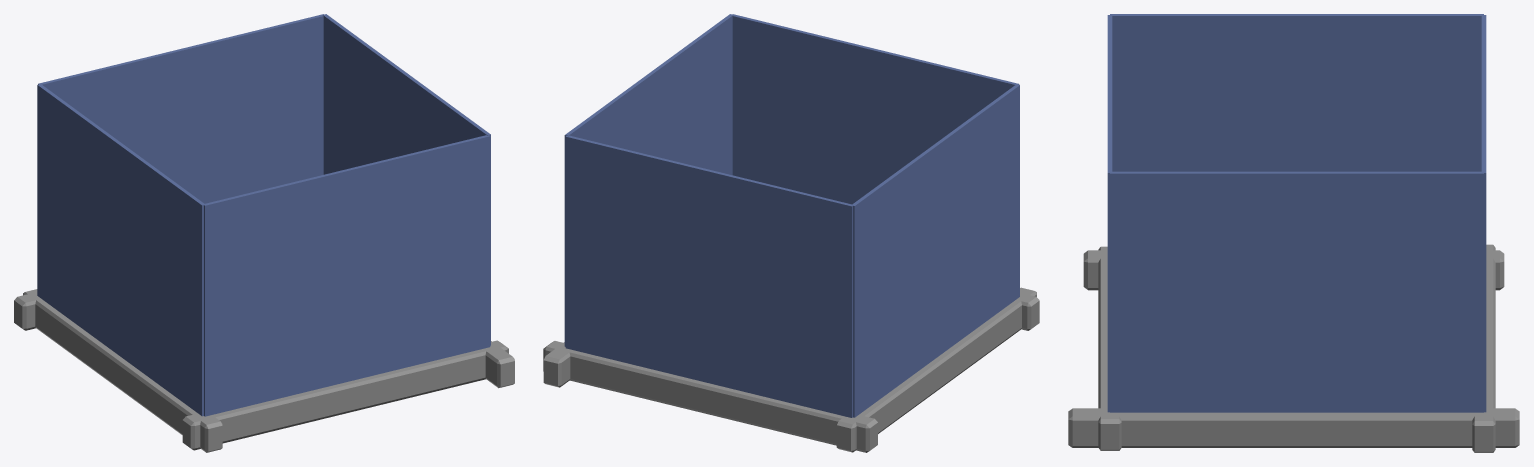
The model's file is Kitchen_Walls.fbx.
The picture shows the model from 3 angles, left to right: view 1: azimuth 30°, elevation 25°; view 2: azimuth 150°, elevation 25°; view 3: azimuth 270°, elevation 25°; orthographic projection. The views are drawn at different scales.
Visible parts, largest first — view 1: pCube2, pCube4, pCube3, pCube5, pasted__pCube15, pasted__pCube17, pasted__pCube16, pasted__pCube14; view 2: pCube3, pCube4, pCube2, pCube5, pasted__pCube14, pasted__pCube17, pasted__pCube16, pasted__pCube15; view 3: pCube5, pCube4, pasted__pCube16, pasted__pCube14, pasted__pCube15, pCube2, pCube3, pasted__pCube17.
Part boxes in pixels (bbox=[...]): pCube2: bbox=[203, 135, 490, 416]; pCube4: bbox=[37, 84, 204, 416]; pCube3: bbox=[38, 14, 323, 203]; pCube5: bbox=[323, 14, 490, 345]; pasted__pCube15: bbox=[182, 340, 508, 450]; pasted__pCube17: bbox=[23, 289, 222, 452]; pasted__pCube16: bbox=[483, 341, 514, 388]; pasted__pCube14: bbox=[14, 292, 38, 330]; pCube3: bbox=[565, 135, 853, 417]; pCube4: bbox=[852, 84, 1019, 417]; pCube2: bbox=[732, 14, 1019, 204]; pCube5: bbox=[564, 14, 733, 346]; pasted__pCube14: bbox=[543, 341, 877, 452]; pasted__pCube17: bbox=[836, 287, 1036, 452]; pasted__pCube16: bbox=[543, 342, 570, 387]; pasted__pCube15: bbox=[1019, 293, 1039, 330]; pCube5: bbox=[1110, 171, 1483, 412]; pCube4: bbox=[1110, 14, 1483, 171]; pasted__pCube16: bbox=[1068, 408, 1519, 447]; pasted__pCube14: bbox=[1472, 244, 1495, 452]; pasted__pCube15: bbox=[1098, 246, 1121, 450]; pCube2: bbox=[1107, 15, 1112, 412]; pCube3: bbox=[1481, 15, 1486, 412]; pasted__pCube17: bbox=[1083, 250, 1504, 290].
Size of the model in its own units: 18.25 by 12.83 by 19.33.
